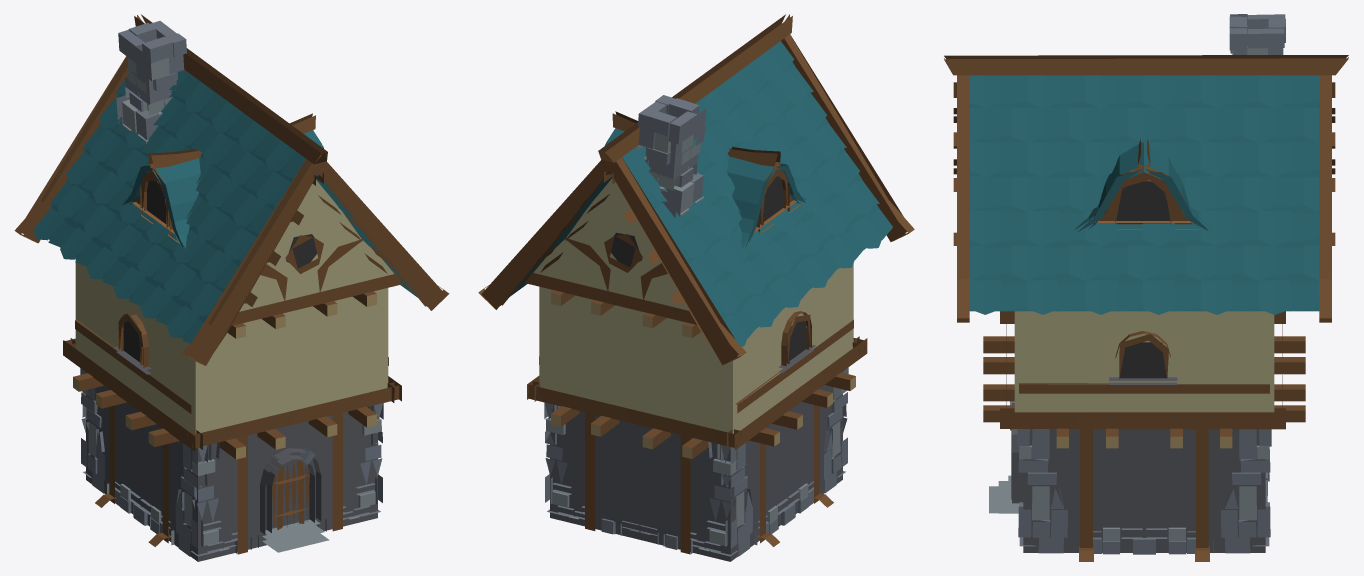
Rendered from bld-house.glb.
3 renders of one model, left to right at view 1: azimuth 30°, elevation 25°; view 2: azimuth 150°, elevation 25°; view 3: azimuth 270°, elevation 25°, orthographic. The views are drawn at different scales.
Visible parts, largest first — view 1: House_1; view 2: House_1; view 3: House_1.
Boxes of the visible parts, <box> form: House_1: <box>14,14,449,561</box>; House_1: <box>478,14,914,561</box>; House_1: <box>944,14,1348,561</box>.
Size of the model in its own units: 2.14 by 3.39 by 2.66.
